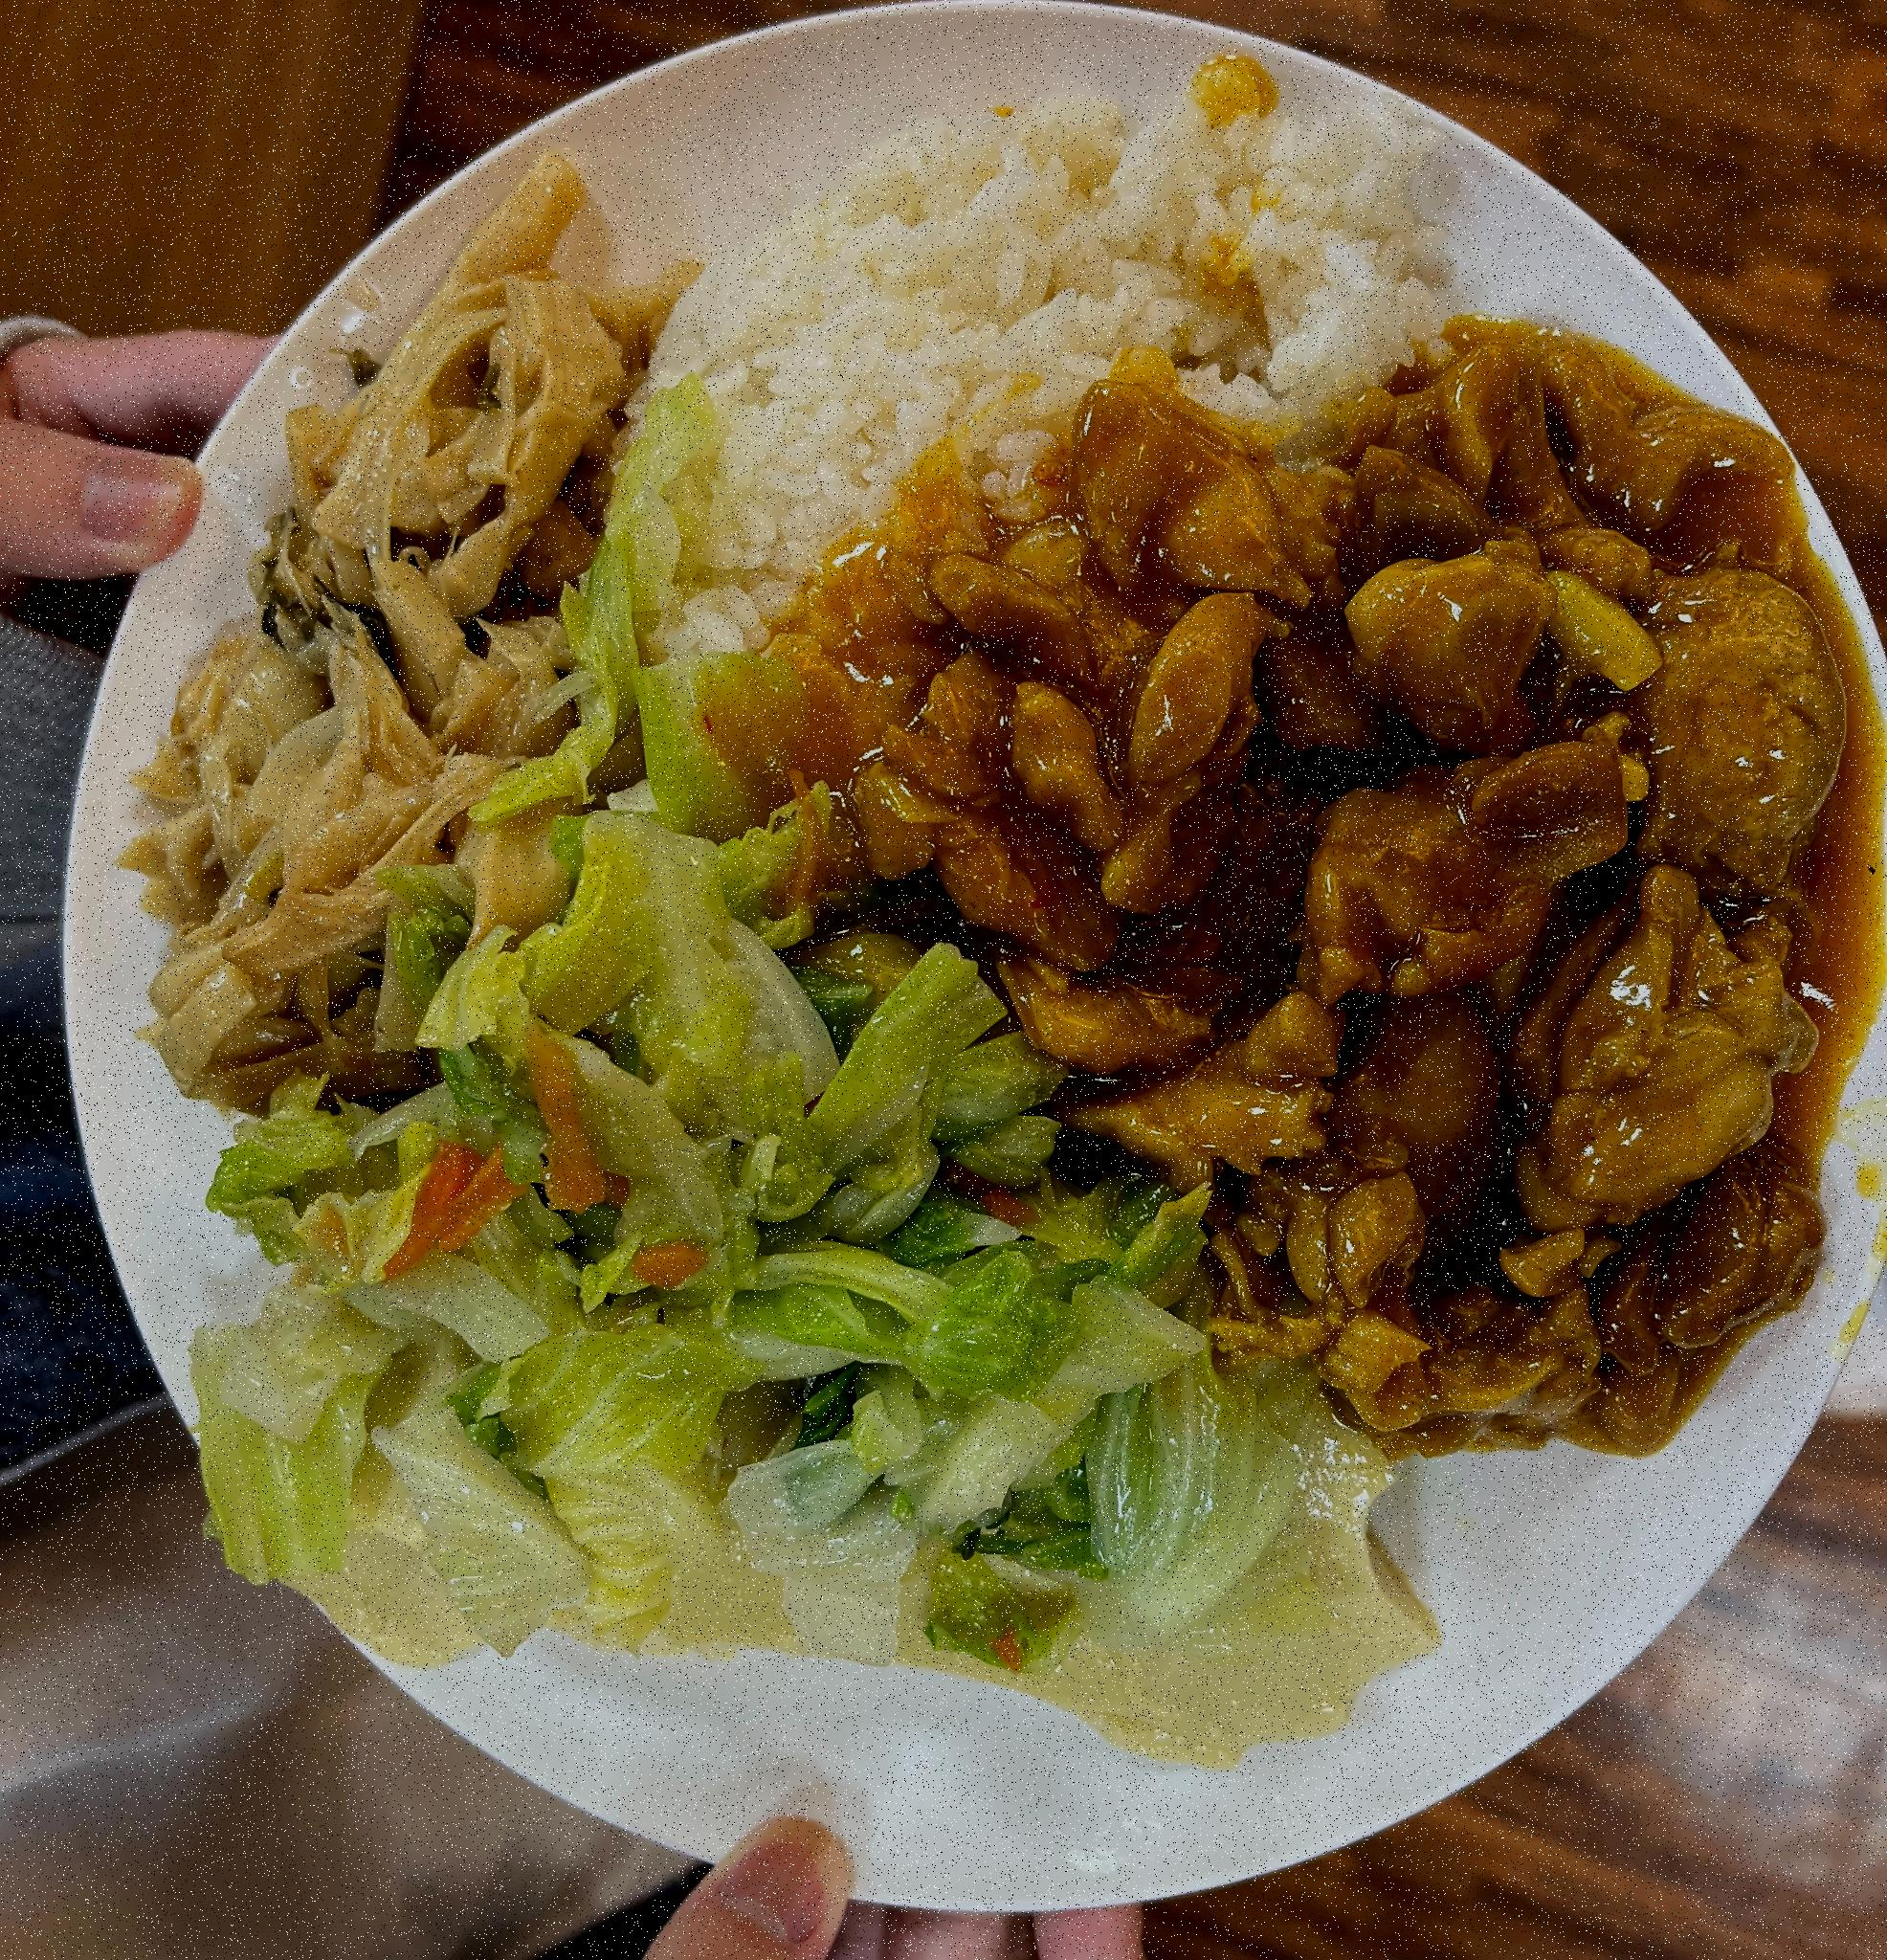curry chicken: (735, 332, 1861, 1424)
plate: (35, 0, 1866, 1925)
side dish: (250, 852, 1259, 1760), (107, 208, 669, 1116)
white rice: (630, 45, 1467, 726)
